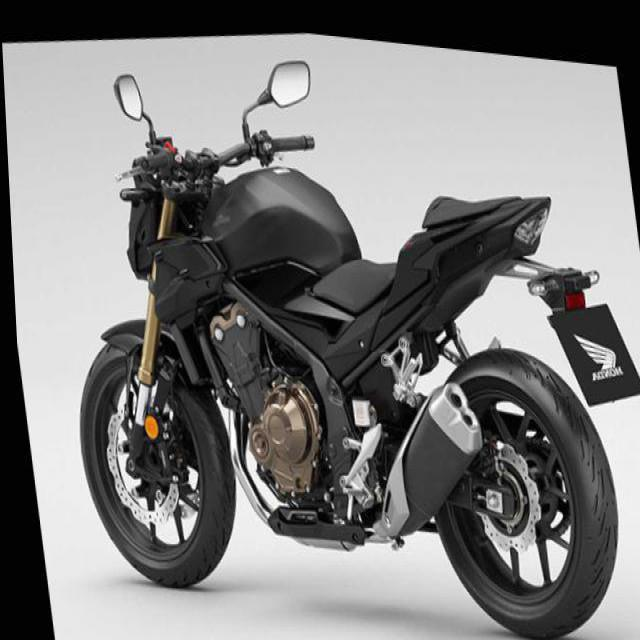CB500F: (28, 1, 639, 639)
